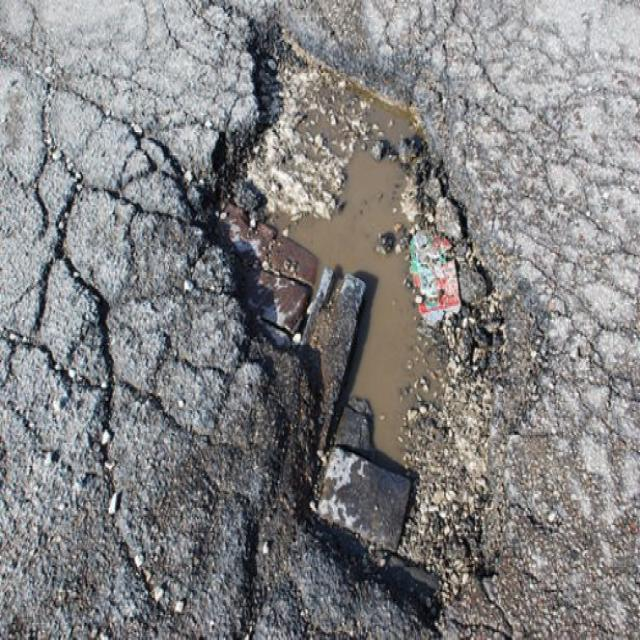pothole: (192, 18, 540, 610)
